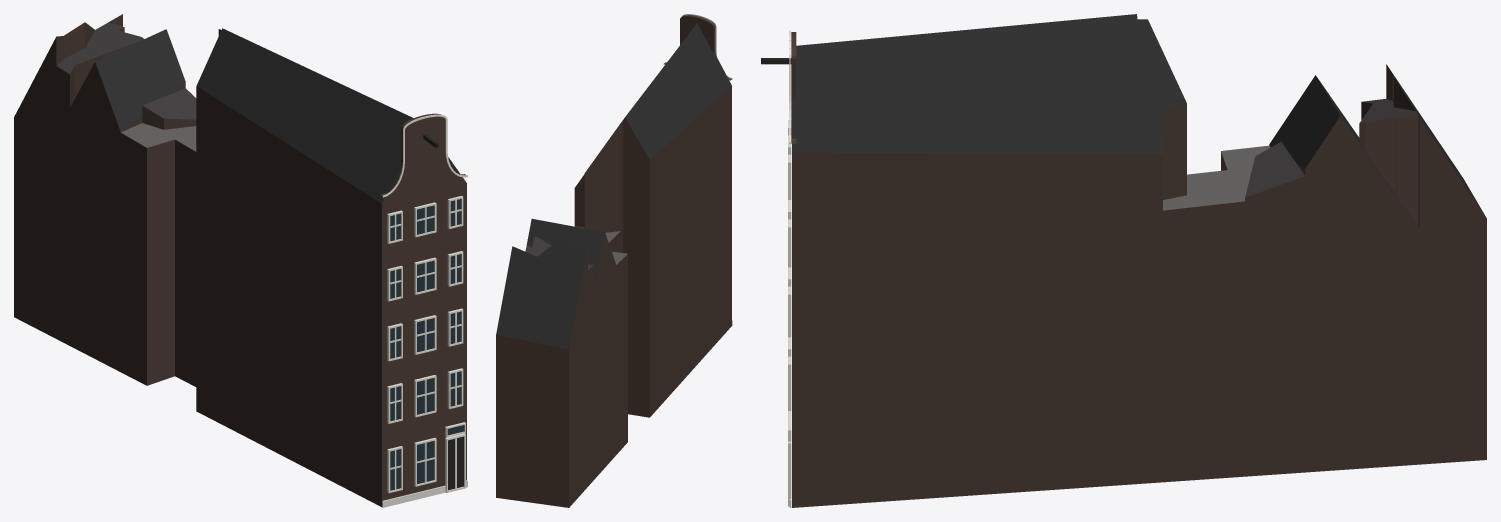
The picture shows the model from 3 angles, left to right: view 1: azimuth 30°, elevation 25°; view 2: azimuth 150°, elevation 25°; view 3: azimuth 270°, elevation 25°; orthographic projection. The views are drawn at different scales.
Parts seen in each view (by area): view 1: spec-0363100012177878; view 2: spec-0363100012177878; view 3: spec-0363100012177878.
Part boxes in pixels (left/top/right/bottom): spec-0363100012177878: left=14, top=14, right=467, bottom=507; spec-0363100012177878: left=496, top=14, right=732, bottom=507; spec-0363100012177878: left=761, top=14, right=1486, bottom=507.
Size of the model in its own units: 8.03 by 17.59 by 25.93.
